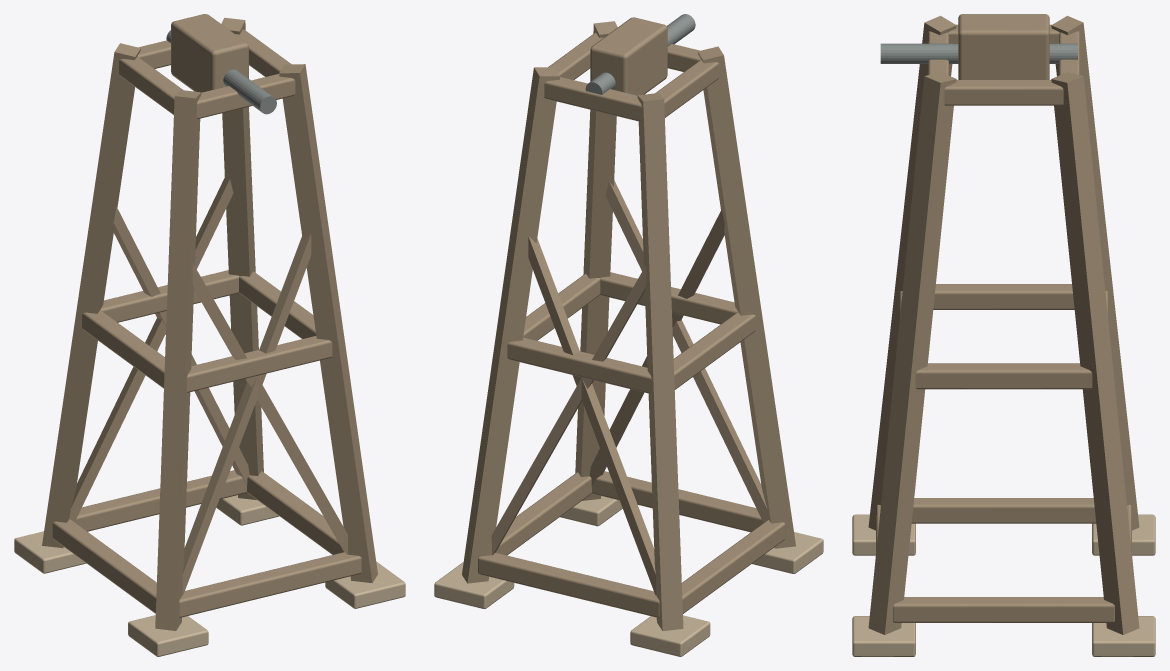
Rendered from coastal-saltworks-and-trade-port-coastal-saltworks-and-25144993__31374.glb.
3 views of the same model, side by side, from view 1: azimuth 30°, elevation 25°; view 2: azimuth 150°, elevation 25°; view 3: azimuth 270°, elevation 25° (orthographic). The views are drawn at different scales.
Visible parts, largest first — view 1: coastal-saltworks-and-trade-port-wind-pump-tower; view 2: coastal-saltworks-and-trade-port-wind-pump-tower; view 3: coastal-saltworks-and-trade-port-wind-pump-tower.
Part boxes in pixels (x1=…): coastal-saltworks-and-trade-port-wind-pump-tower: x1=14, y1=14, x2=405, y2=656; coastal-saltworks-and-trade-port-wind-pump-tower: x1=434, y1=14, x2=823, y2=656; coastal-saltworks-and-trade-port-wind-pump-tower: x1=852, y1=14, x2=1155, y2=656.
Size of the model in its own units: 1.72 by 3.58 by 1.72.
